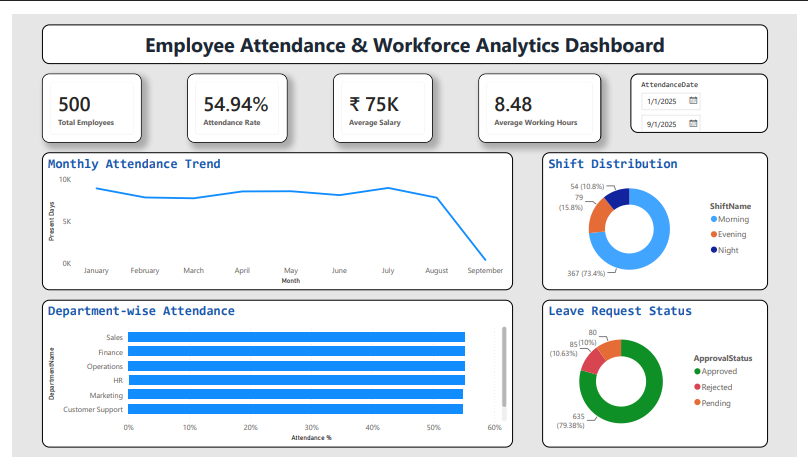

Layout of this report page (visuals, bound fields, positions):
{"tool":"powerbi","page":{"name":"Executive Summary","canvas":[1280,720],"ordinal":0},"visuals":[{"type":"textbox","box":[48,16,1184,64],"z":0},{"type":"cardVisual","fields":{"Data":["Measures (2).Total Employees"]},"box":[48,96,162.4,112],"z":1000},{"type":"cardVisual","fields":{"Data":["Measures (2).Attendance %"]},"box":[285.4,96,162.4,112],"z":2000},{"type":"cardVisual","fields":{"Data":["Measures (2).Average Salary"]},"box":[522.7,96,162.4,112],"z":3000},{"type":"cardVisual","fields":{"Data":["Measures (2).Average Working Hours"]},"box":[760.1,96,199.9,112],"z":4000},{"type":"slicer","fields":{"Values":["Attendance.AttendanceDate"]},"box":[1008,96,224,96],"z":5000},{"type":"lineChart","title":"Monthly Attendance Trend","fields":{"Category":["Attendance.AttendanceDate.Variation.Date Hierarchy.Month"],"Y":["Measures (2).Present Days"]},"box":[48,224,768,224],"z":6000},{"type":"clusteredBarChart","title":"Department-wise Attendance","fields":{"Category":["Departments.DepartmentName"],"Y":["Measures (2).Attendance %"]},"box":[48,464,768,240],"z":7000},{"type":"donutChart","title":"Shift Distribution","fields":{"Category":["Shifts.ShiftName"],"Y":["Count(Shifts.EmployeeID)"]},"box":[864,224,368,224],"z":8000},{"type":"donutChart","title":"Leave Request Status","fields":{"Category":["LeaveRequests.ApprovalStatus"],"Y":["CountNonNull(LeaveRequests.LeaveID)"]},"box":[864,464,368,240],"z":9000}]}

Visuals, with their boxes in screenshot pixels (x1, y1, x2, y2):
textbox: <bbox>32, 20, 769, 60</bbox>
cardVisual - Measures (2).Total Employees: <bbox>32, 70, 133, 140</bbox>
cardVisual - Measures (2).Attendance %: <bbox>180, 70, 281, 140</bbox>
cardVisual - Measures (2).Average Salary: <bbox>327, 70, 429, 140</bbox>
cardVisual - Measures (2).Average Working Hours: <bbox>475, 70, 600, 140</bbox>
slicer - Attendance.AttendanceDate: <bbox>630, 70, 769, 130</bbox>
"Monthly Attendance Trend" lineChart: <bbox>32, 150, 510, 289</bbox>
"Department-wise Attendance" clusteredBarChart: <bbox>32, 299, 510, 449</bbox>
"Shift Distribution" donutChart: <bbox>540, 150, 769, 289</bbox>
"Leave Request Status" donutChart: <bbox>540, 299, 769, 449</bbox>
